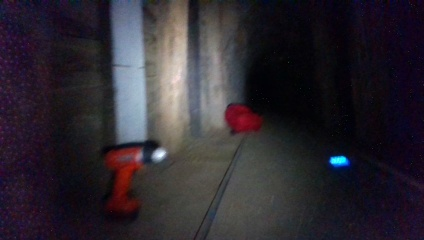backpack: (222, 101, 262, 135)
cellphone: (325, 150, 352, 173)
drill: (101, 141, 169, 224)
